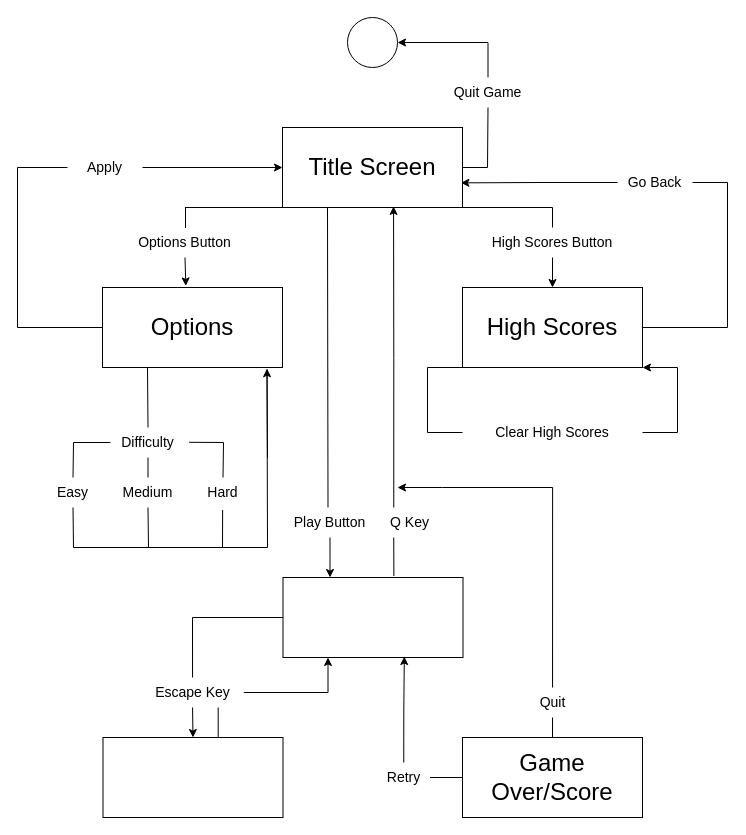
The diagram is 746 pixels wide and 835 high, and some of its shapes have lost their labels. Each missing label, with the box of its shape:
Frozen Gameplay: (102, 736, 283, 818)
Gameplay: (282, 576, 463, 658)
